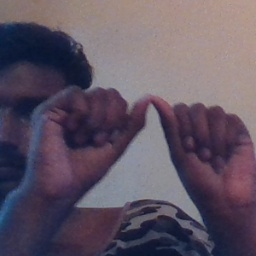A: (67, 84, 231, 194)
